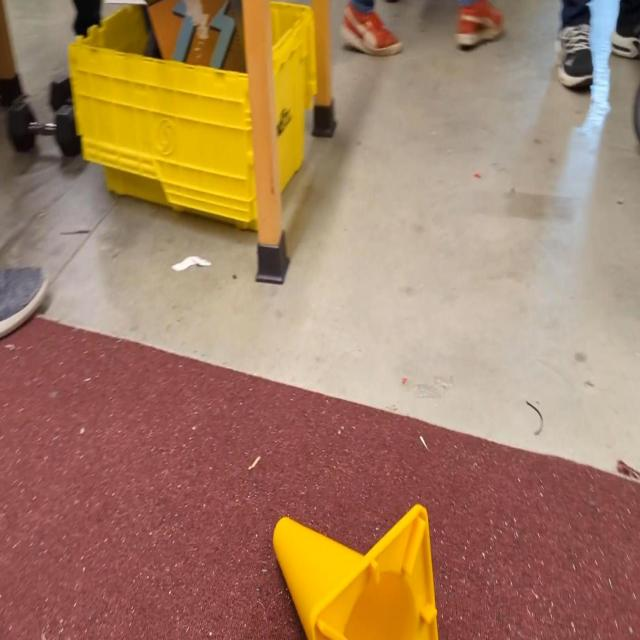frc_cone: (272, 506, 439, 640)
